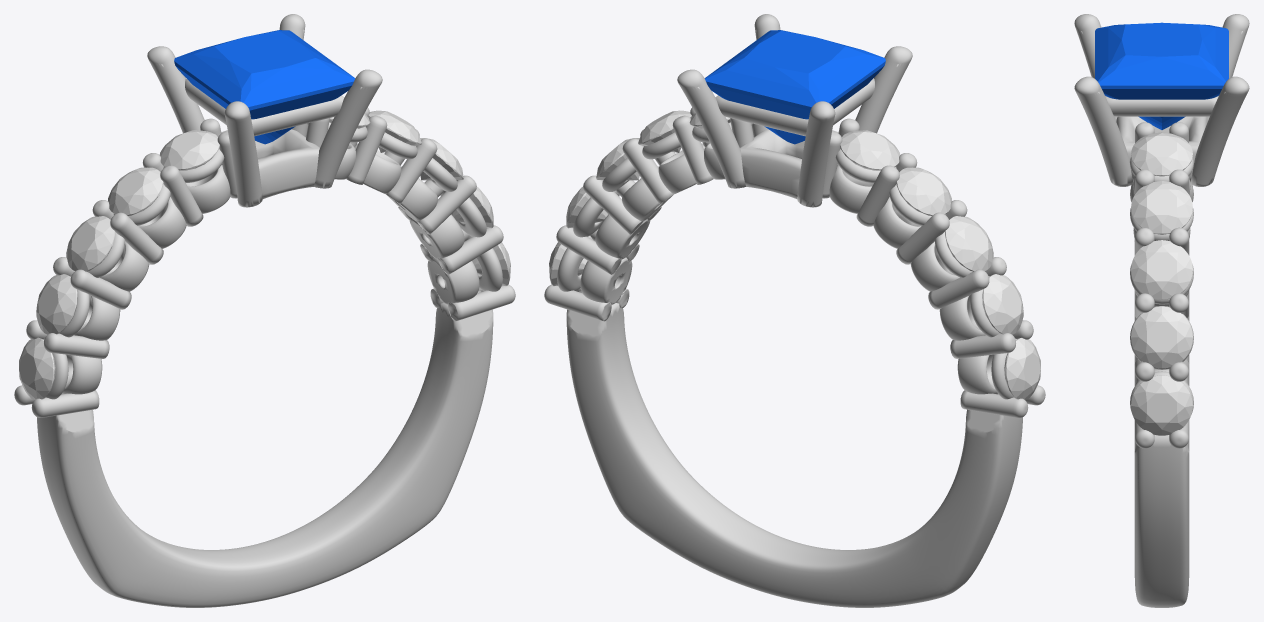
The model's file is bluesapphire-princess-platinum-4prong-europeanshank-11stone.glb.
3 renders of one model, left to right at view 1: azimuth 30°, elevation 25°; view 2: azimuth 150°, elevation 25°; view 3: azimuth 270°, elevation 25°, orthographic.
Parts seen in each view (by area): view 1: metal, stone, side.002, side.003, side.001, side.004, side, side.008, side.007; view 2: metal, stone, side.002, side.003, side.001, side.004, side, side.008, side.007; view 3: metal, stone, side.006, side.005, side.007, side.008, side.009.
Part boxes in pixels (left/top/right/bottom): metal: left=14, top=14, right=515, bottom=607; stone: left=174, top=30, right=355, bottom=144; side.002: left=66, top=216, right=114, bottom=271; side.003: left=108, top=167, right=163, bottom=215; side.001: left=36, top=274, right=77, bottom=334; side.004: left=159, top=130, right=219, bottom=170; side: left=19, top=337, right=55, bottom=399; side.008: left=368, top=110, right=421, bottom=152; side.007: left=420, top=138, right=463, bottom=180; metal: left=544, top=14, right=1045, bottom=607; stone: left=704, top=30, right=885, bottom=144; side.002: left=945, top=216, right=993, bottom=271; side.003: left=896, top=167, right=951, bottom=215; side.001: left=982, top=274, right=1023, bottom=334; side.004: left=840, top=130, right=900, bottom=170; side: left=1004, top=337, right=1040, bottom=399; side.008: left=638, top=110, right=691, bottom=152; side.007: left=596, top=138, right=639, bottom=180; metal: left=1074, top=14, right=1249, bottom=607; stone: left=1095, top=22, right=1228, bottom=129; side.006: left=1131, top=306, right=1192, bottom=368; side.005: left=1131, top=375, right=1192, bottom=435; side.007: left=1131, top=240, right=1192, bottom=299; side.008: left=1131, top=181, right=1192, bottom=234; side.009: left=1131, top=132, right=1192, bottom=176.
Bounding box in the file's own units: 22 × 23.65 × 7.08.
